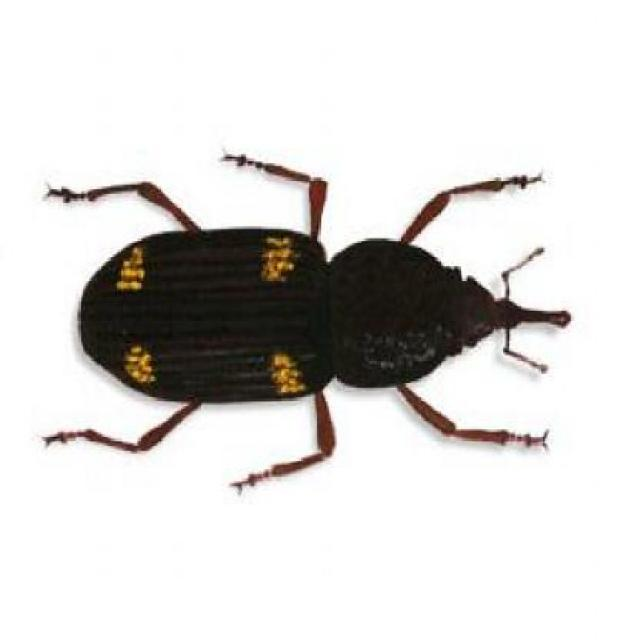rice-bug: (68, 223, 575, 419)
